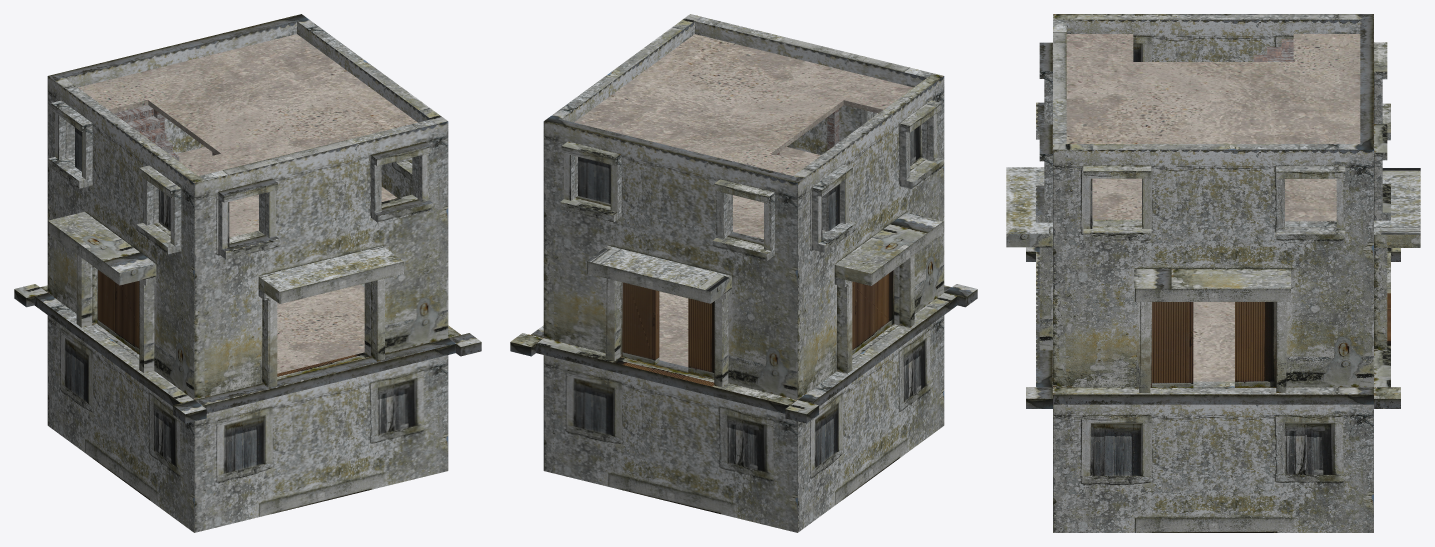
The model's file is BagBuilding12High.fbx.
3 views of the same model, side by side, from view 1: azimuth 30°, elevation 25°; view 2: azimuth 150°, elevation 25°; view 3: azimuth 270°, elevation 25° (orthographic). The views are drawn at different scales.
Visible parts, largest first — view 1: main300, floors300, stairs300; view 2: main300, floors300; view 3: main300, floors300, stairs300.
Boxes of the visible parts, x1,y1,x2,y2 form: main300: [14, 14, 481, 532]; floors300: [78, 34, 417, 373]; stairs300: [114, 105, 215, 161]; main300: [510, 14, 977, 532]; floors300: [574, 34, 913, 366]; main300: [1006, 14, 1420, 532]; floors300: [1066, 34, 1360, 381]; stairs300: [1253, 39, 1293, 61].
Bounding box in the file's own units: 18.84 × 19.22 × 18.84.
